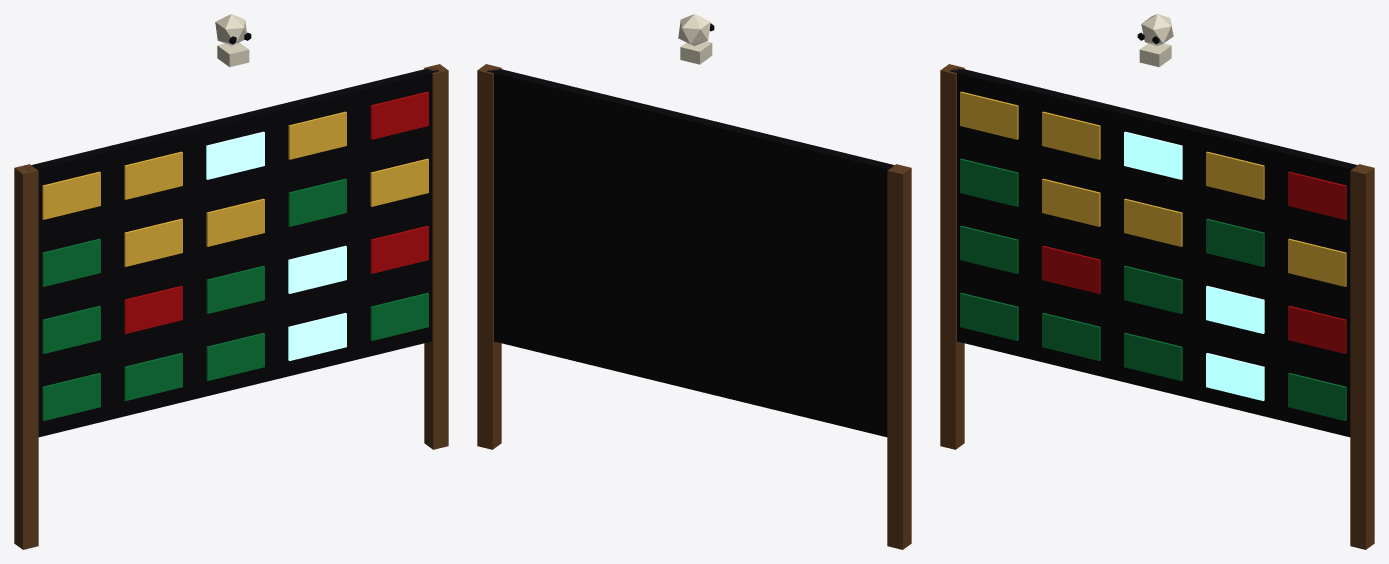
Rendered from Prop_OR_OddsBoard_14.glb.
The picture shows the model from 3 angles, left to right: view 1: azimuth 30°, elevation 25°; view 2: azimuth 150°, elevation 25°; view 3: azimuth 330°, elevation 25°; orthographic projection.
Visible parts, largest first — view 1: Prop_OR_OddsBoard_14; view 2: Prop_OR_OddsBoard_14; view 3: Prop_OR_OddsBoard_14.
Boxes of the visible parts, x1,y1,x2,y2 form: Prop_OR_OddsBoard_14: [14, 14, 448, 549]; Prop_OR_OddsBoard_14: [477, 14, 911, 549]; Prop_OR_OddsBoard_14: [940, 14, 1374, 549].
Size of the model in its own units: 4.15 by 4.48 by 0.3057.
